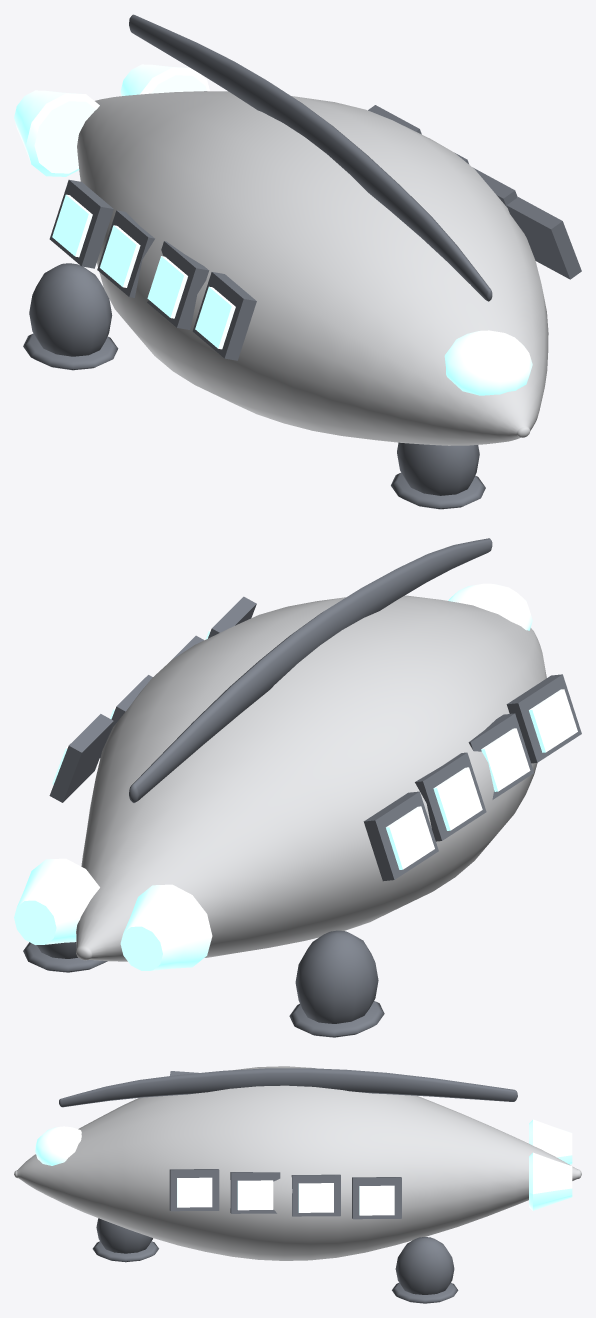
Rendered from ufo-crash-site-and-recovery-facility-bio-organic-pod-c-f4e5c944__17321.glb.
3 renders of one model, top to bottom at view 1: azimuth 30°, elevation 25°; view 2: azimuth 150°, elevation 25°; view 3: azimuth 270°, elevation 25°, orthographic. The views are drawn at different scales.
Visible parts, largest first — view 1: bio-organic-pod-craft; view 2: bio-organic-pod-craft; view 3: bio-organic-pod-craft.
Part boxes in pixels (x1,y1,x2,y2): bio-organic-pod-craft: [14, 14, 581, 509]; bio-organic-pod-craft: [14, 538, 581, 1037]; bio-organic-pod-craft: [14, 1066, 581, 1303].
Size of the model in its own units: 2.7 by 2.13 by 5.79.
